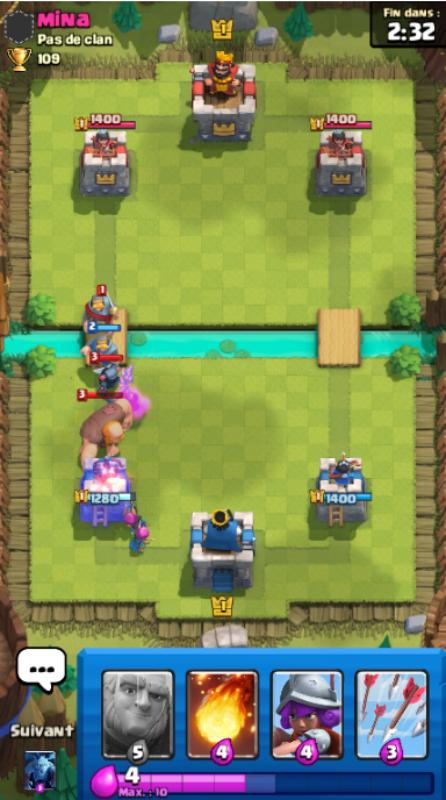archere: (136, 518, 160, 564), (124, 502, 142, 544)
chevalier: (86, 320, 122, 360), (82, 284, 118, 322)
geant: (70, 398, 144, 470)
mini_PEKKA: (86, 354, 130, 394)
